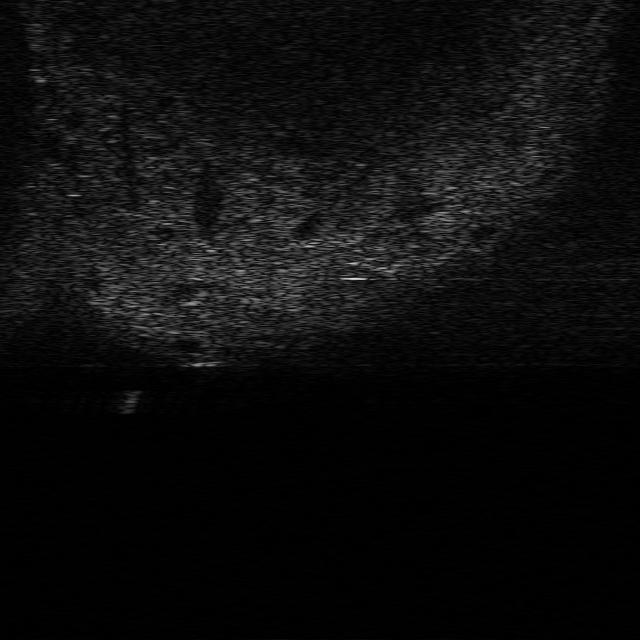cylinder: (120, 386, 141, 415)
